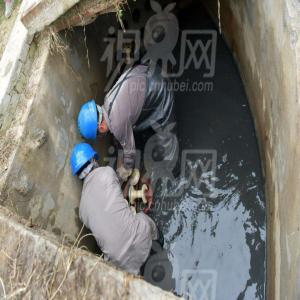blue: (78, 98, 111, 144), (72, 143, 100, 185)
